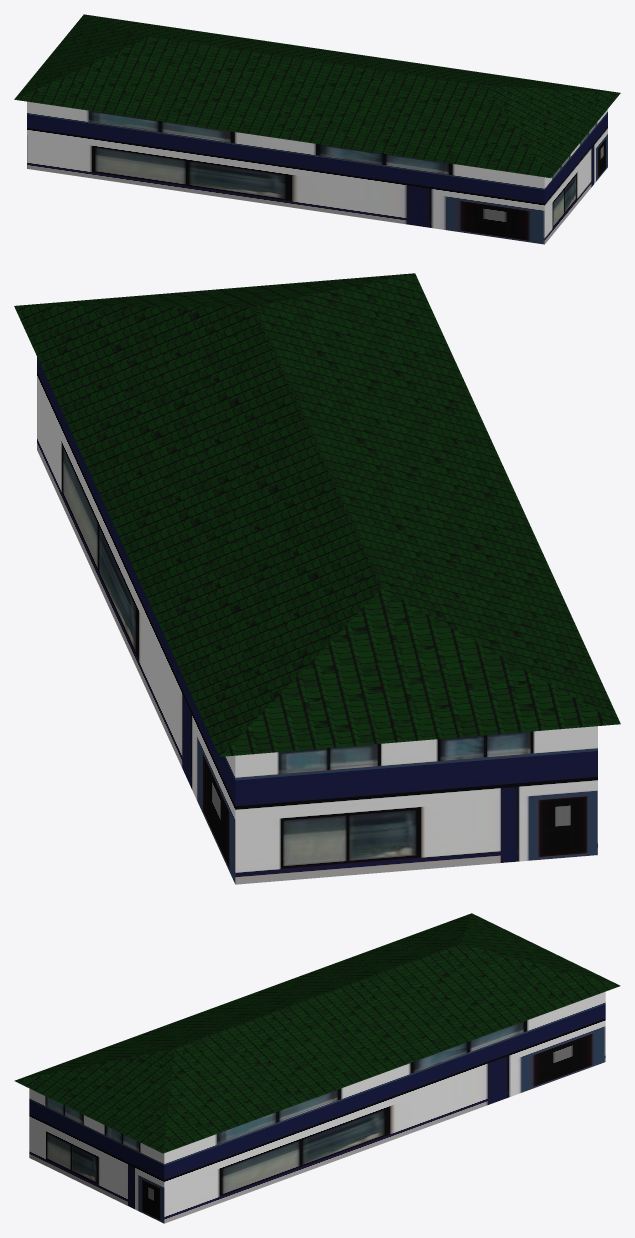
The picture shows the model from 3 angles, top to bottom: view 1: azimuth 30°, elevation 25°; view 2: azimuth 150°, elevation 25°; view 3: azimuth 270°, elevation 25°; orthographic projection. The views are drawn at different scales.
Parts seen in each view (by area): view 1: CityEngineMaterial_13_m, CityEngineMaterial_2_m; view 2: CityEngineMaterial_13_m, CityEngineMaterial_2_m; view 3: CityEngineMaterial_13_m, CityEngineMaterial_2_m.
Boxes of the visible parts, x1,y1,x2,y2 form: CityEngineMaterial_13_m: (14,14,620,177); CityEngineMaterial_2_m: (27,101,607,244); CityEngineMaterial_13_m: (14,273,620,756); CityEngineMaterial_2_m: (37,357,597,884); CityEngineMaterial_13_m: (14,913,620,1153); CityEngineMaterial_2_m: (29,991,605,1223).
Size of the model in its own units: 48.77 by 10.8 by 52.04.
